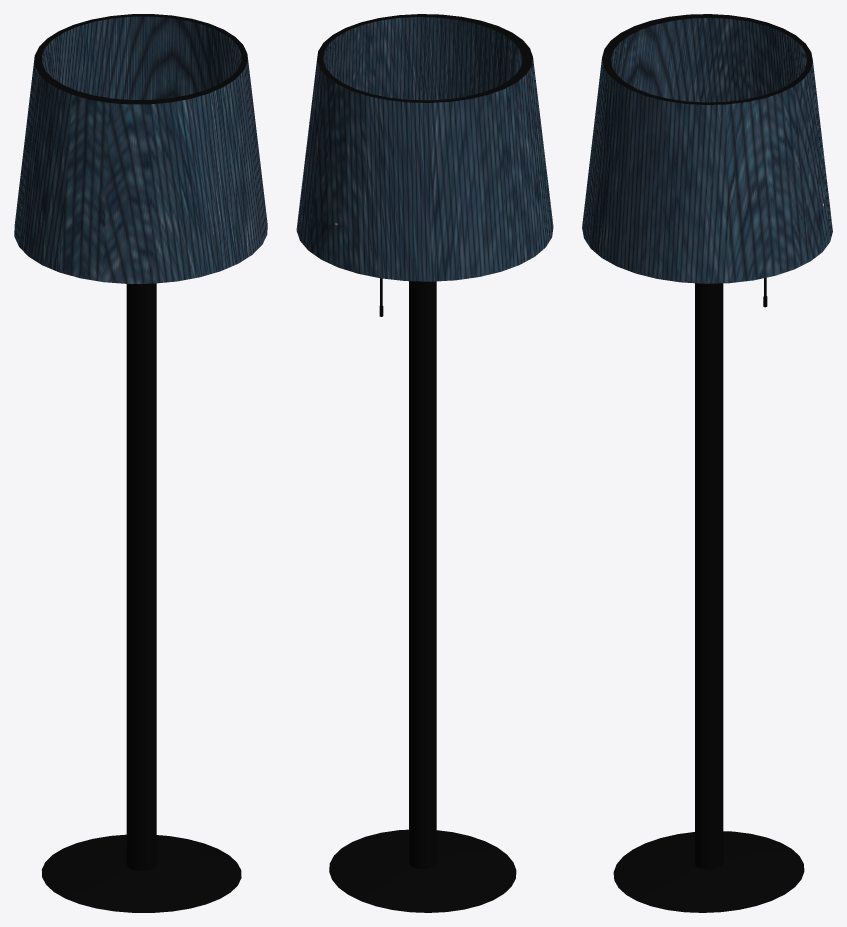
Rendered from Lamp.fbx.
The picture shows the model from 3 angles, left to right: view 1: azimuth 30°, elevation 25°; view 2: azimuth 150°, elevation 25°; view 3: azimuth 270°, elevation 25°; orthographic projection.
Visible parts, largest first — view 1: Cone.001, Cylinder.001, Lamp; view 2: Cone.001, Cylinder.001, Lamp; view 3: Cone.001, Cylinder.001, Lamp.
Boxes of the visible parts, x1,y1,x2,y2 form: Cone.001: [14, 14, 267, 283]; Cylinder.001: [126, 283, 156, 870]; Lamp: [41, 834, 241, 912]; Cone.001: [296, 14, 553, 281]; Cylinder.001: [409, 281, 436, 868]; Lamp: [329, 829, 516, 912]; Cone.001: [582, 14, 832, 283]; Cylinder.001: [695, 283, 723, 869]; Lamp: [613, 831, 804, 912].
Size of the model in its own units: 487 by 1702 by 477.
Materials: 2 (2 with a texture image).
